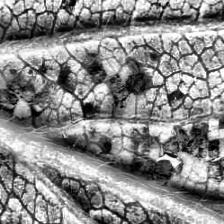Angular Leafspot: (0, 0, 224, 197)
